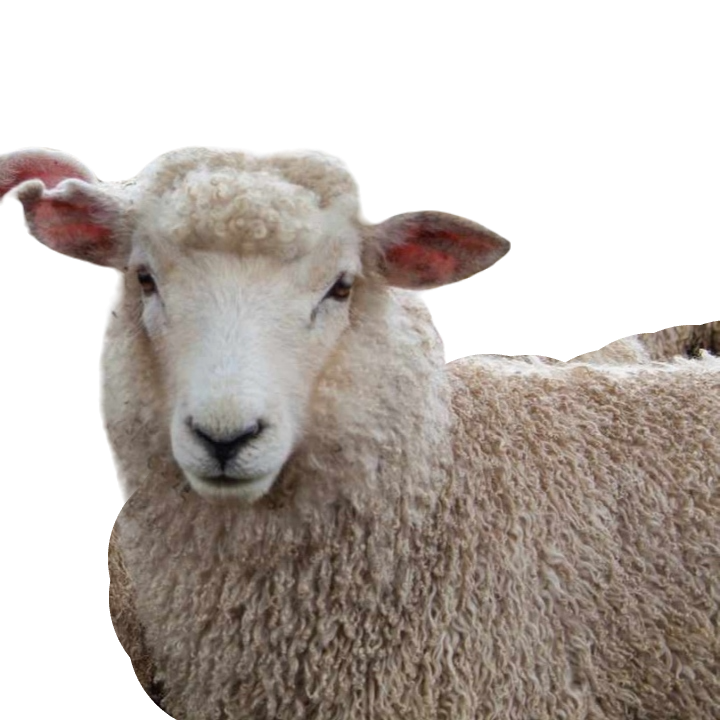Sheep: (0, 141, 720, 719)
